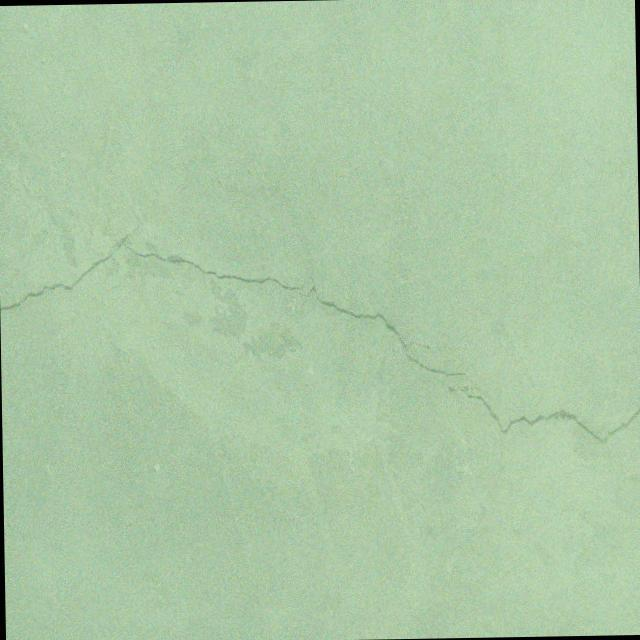crack: (0, 203, 640, 454), (188, 157, 247, 197), (272, 183, 307, 246), (494, 434, 503, 488), (168, 165, 182, 170)
